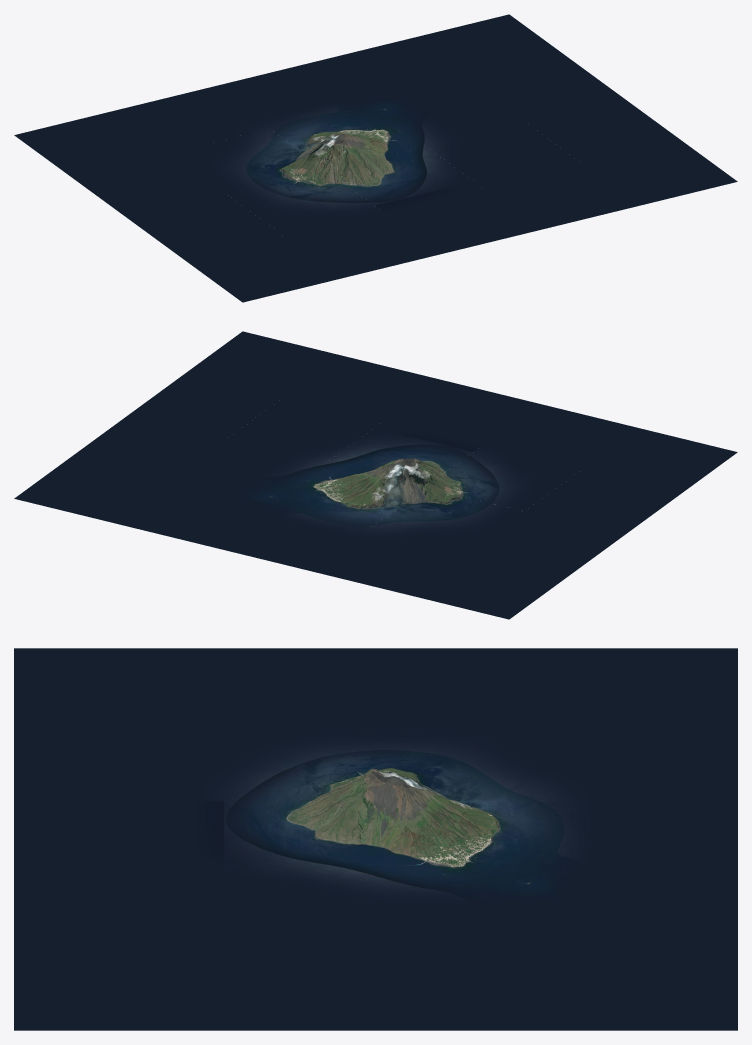
File: stromboli_10km.glb
3 views of the same model, one above another, from view 1: azimuth 30°, elevation 25°; view 2: azimuth 150°, elevation 25°; view 3: azimuth 270°, elevation 25° (orthographic). The views are drawn at different scales.
Parts seen in each view (by area): view 1: dem-rgb-13/4442/3137, dem-rgb-13/4441/3137, dem-rgb-13/4443/3137, dem-rgb-13/4440/3136, dem-rgb-13/4441/3135, dem-rgb-13/4440/3137, dem-rgb-13/4442/3135, dem-rgb-13/4443/3136, dem-rgb-13/4443/3135, dem-rgb-13/4440/3135, dem-rgb-13/4441/3136, dem-rgb-13/4441/3138 (+8 smaller); view 2: dem-rgb-13/4442/3136, dem-rgb-13/4441/3136, dem-rgb-13/4440/3136, dem-rgb-13/4440/3137, dem-rgb-13/4443/3137, dem-rgb-13/4440/3135, dem-rgb-13/4443/3136, dem-rgb-13/4443/3135, dem-rgb-13/4441/3135, dem-rgb-13/4442/3135, dem-rgb-13/4442/3138, dem-rgb-13/4440/3138 (+8 smaller); view 3: dem-rgb-13/4442/3136, dem-rgb-13/4442/3137, dem-rgb-13/4440/3135, dem-rgb-13/4440/3136, dem-rgb-13/4440/3137, dem-rgb-13/4442/3135, dem-rgb-13/4443/3135, dem-rgb-13/4443/3136, dem-rgb-13/4443/3137, dem-rgb-13/4444/3136, dem-rgb-13/4441/3135, dem-rgb-13/4444/3135 (+8 smaller).
Boxes of the visible parts, box(x1,y1,x2,y2) form: dem-rgb-13/4442/3137: box(327, 142, 482, 212); dem-rgb-13/4441/3137: box(228, 152, 383, 236); dem-rgb-13/4443/3137: box(426, 122, 582, 188); dem-rgb-13/4440/3136: box(71, 153, 227, 218); dem-rgb-13/4441/3135: box(113, 87, 269, 152); dem-rgb-13/4440/3137: box(129, 195, 284, 260); dem-rgb-13/4442/3135: box(212, 62, 368, 128); dem-rgb-13/4443/3136: box(369, 80, 524, 146); dem-rgb-13/4443/3135: box(312, 38, 467, 104); dem-rgb-13/4440/3135: box(14, 111, 169, 176); dem-rgb-13/4441/3136: box(171, 128, 326, 194); dem-rgb-13/4441/3138: box(285, 212, 440, 278); dem-rgb-13/4442/3136: box(269, 458, 424, 528); dem-rgb-13/4441/3136: box(368, 469, 524, 553); dem-rgb-13/4440/3136: box(467, 511, 623, 577); dem-rgb-13/4440/3137: box(525, 469, 680, 535); dem-rgb-13/4443/3137: box(227, 397, 382, 462); dem-rgb-13/4440/3135: box(410, 553, 565, 619); dem-rgb-13/4443/3136: box(170, 439, 325, 504); dem-rgb-13/4443/3135: box(112, 481, 268, 546); dem-rgb-13/4441/3135: box(311, 529, 466, 595); dem-rgb-13/4442/3135: box(212, 505, 367, 570); dem-rgb-13/4442/3138: box(384, 379, 539, 445); dem-rgb-13/4440/3138: box(582, 428, 737, 493); dem-rgb-13/4442/3136: box(375, 769, 556, 877); dem-rgb-13/4442/3137: box(194, 769, 375, 877); dem-rgb-13/4440/3135: box(556, 648, 737, 724); dem-rgb-13/4440/3136: box(375, 648, 556, 724); dem-rgb-13/4440/3137: box(194, 648, 375, 724); dem-rgb-13/4442/3135: box(556, 801, 737, 877); dem-rgb-13/4443/3135: box(556, 878, 737, 954); dem-rgb-13/4443/3136: box(375, 878, 556, 954); dem-rgb-13/4443/3137: box(194, 878, 375, 954); dem-rgb-13/4444/3136: box(375, 954, 556, 1030); dem-rgb-13/4441/3135: box(556, 725, 737, 801); dem-rgb-13/4444/3135: box(556, 954, 737, 1030).
Size of the model in its own units: 1.34 by 0.0646 by 1.08.
Materials: 20 (20 with a texture image).
